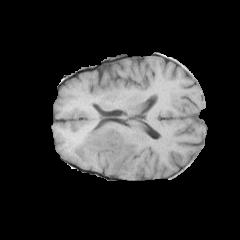glioma: (72, 124, 138, 173)
